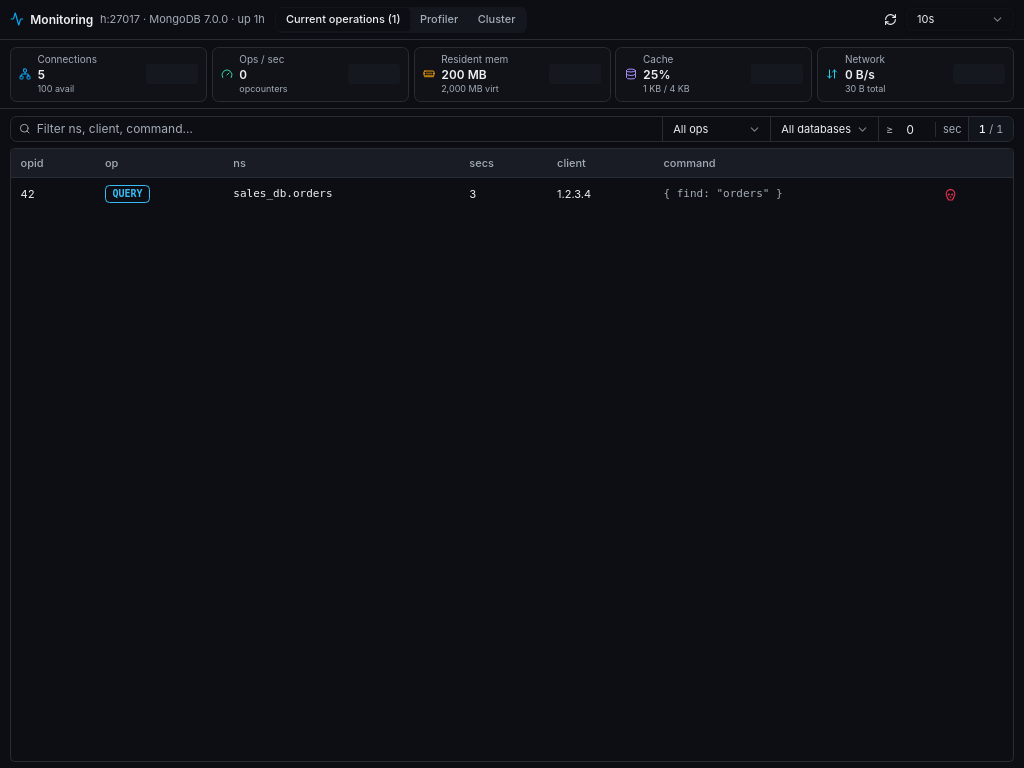
Scenario: MonitoringView › does not fetch replica-set status until the Cluster tab is active
This screenshot has width=1024, height=768.
Expected: the table with test id "current-ops-table" is shown, [11, 149, 1013, 210]
Click the tab with test id "mon-tab-cluster": click(497, 20) [468, 8, 525, 31]
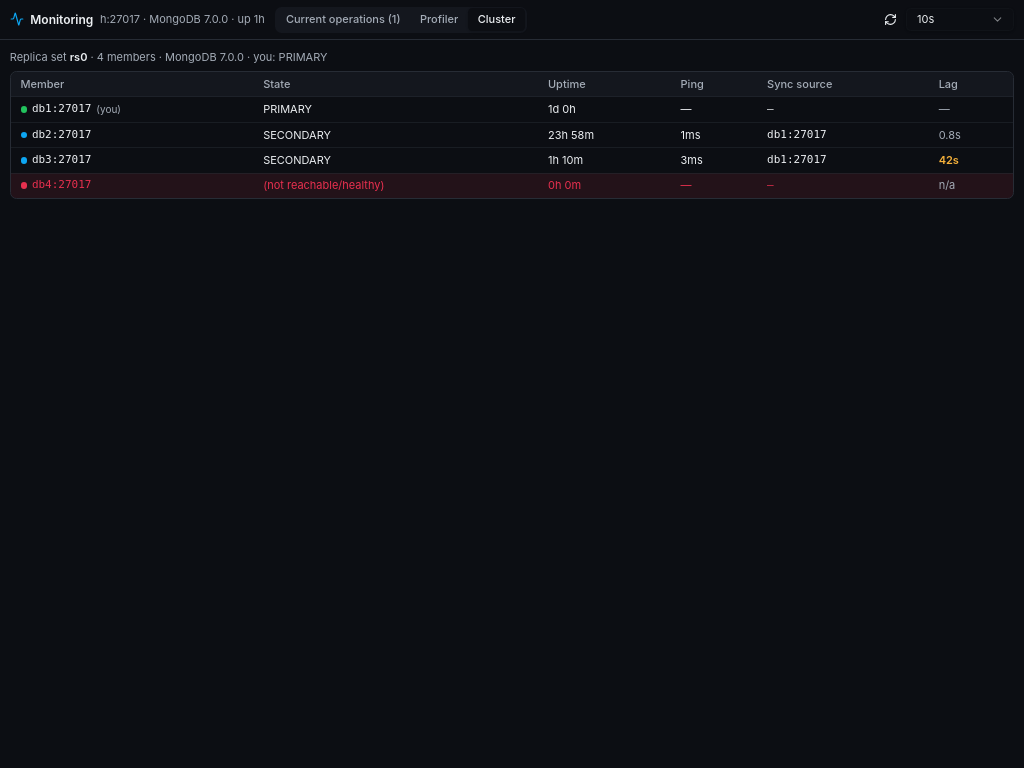
Now the element with test id "mon-panel-cluster" is shown, box [10, 50, 1014, 199]
